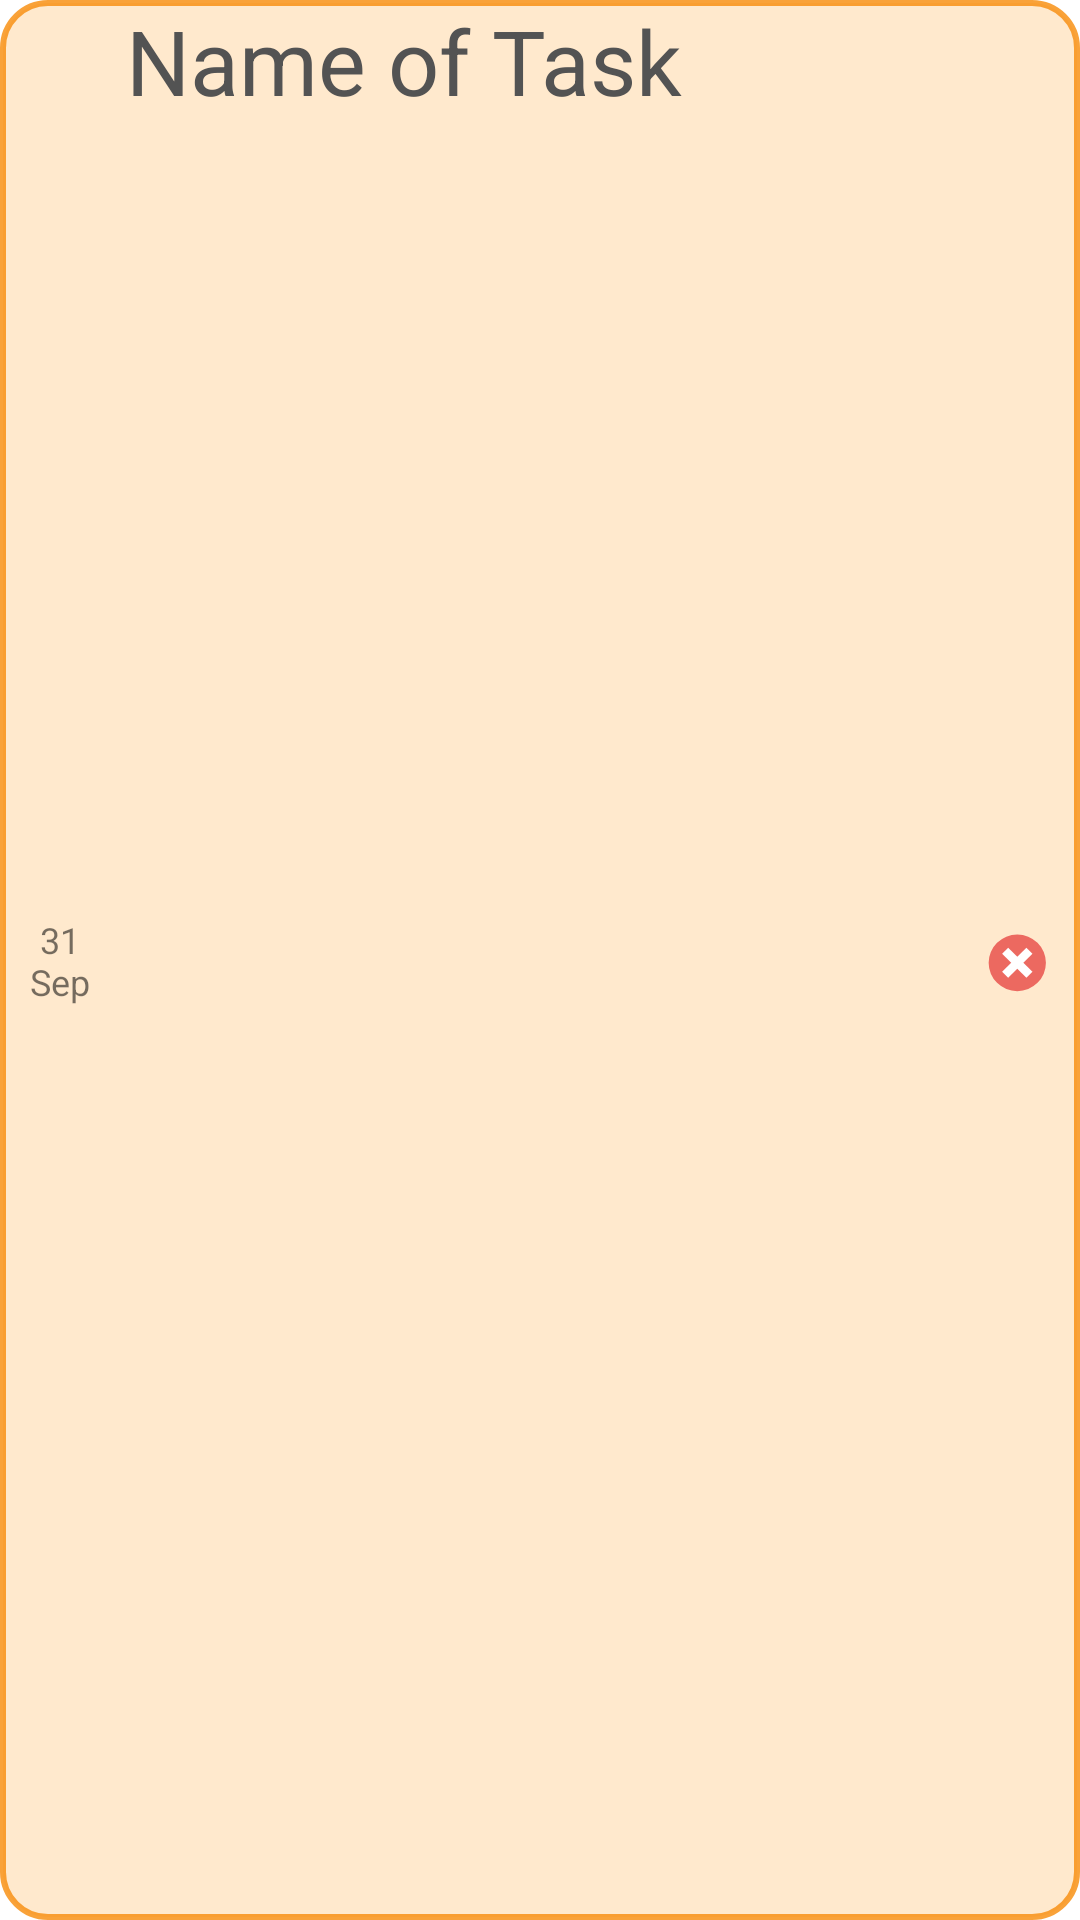

Named icons in this screenshot (1080px x 1920px) and their bounding boxes, detection(x1, y1, x2, y2):
delete: detection(988, 934, 1046, 992)
